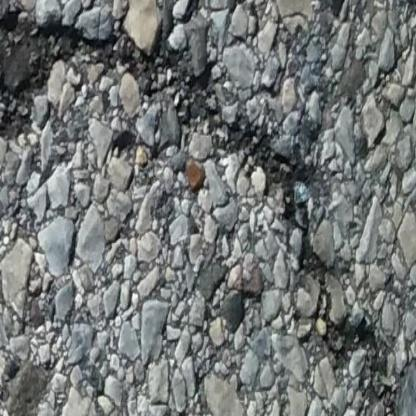Cracks: (0, 12, 407, 416)
